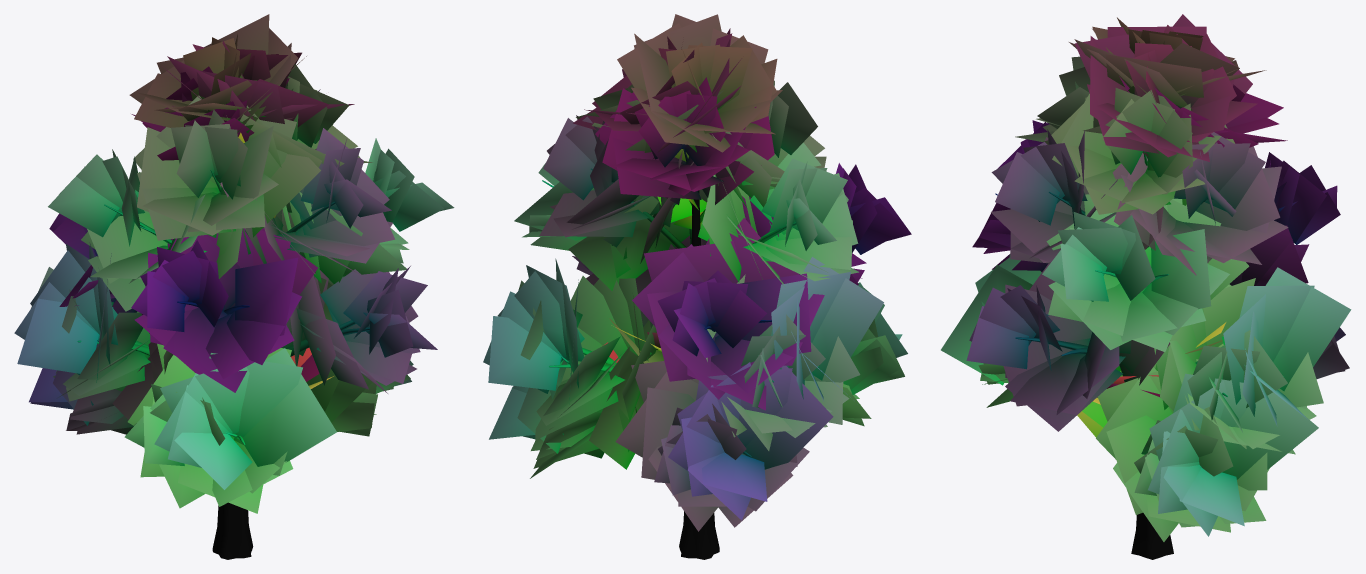
File: SM_Tree01.fbx
The picture shows the model from 3 angles, left to right: view 1: azimuth 30°, elevation 25°; view 2: azimuth 150°, elevation 25°; view 3: azimuth 270°, elevation 25°; orthographic projection. The views are drawn at different scales.
Parts seen in each view (by area): view 1: Tree_1, Tree_0; view 2: Tree_1, Tree_0; view 3: Tree_1, Tree_0.
Boxes of the visible parts, x1,y1,x2,y2 form: Tree_1: [14, 14, 454, 513]; Tree_0: [77, 170, 369, 559]; Tree_1: [483, 14, 911, 531]; Tree_0: [542, 144, 819, 559]; Tree_1: [941, 14, 1351, 541]; Tree_0: [995, 151, 1283, 559].
Size of the model in its own units: 258 by 343 by 240.
